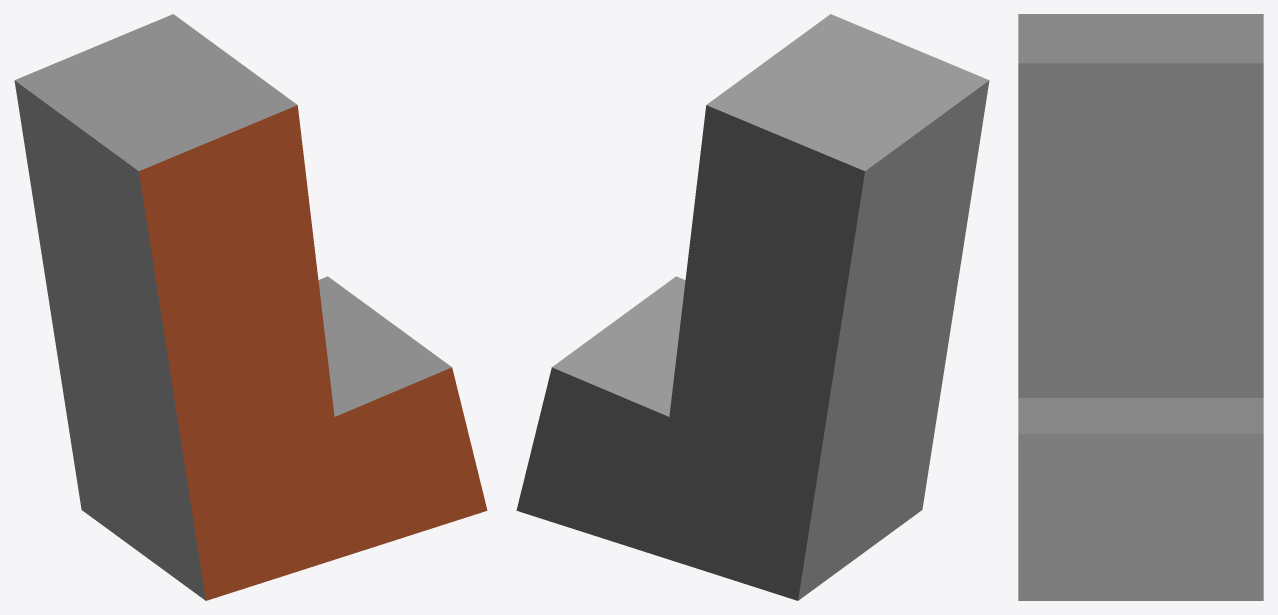
The model's file is construction_2995_assumed_A_Casa_h6m.obj.
The picture shows the model from 3 angles, left to right: view 1: azimuth 30°, elevation 25°; view 2: azimuth 150°, elevation 25°; view 3: azimuth 270°, elevation 25°; orthographic projection.
Parts seen in each view (by area): view 1: construction_2995_assumed_A_Casa; view 2: construction_2995_assumed_A_Casa; view 3: construction_2995_assumed_A_Casa.
Part boxes in pixels (<box>): construction_2995_assumed_A_Casa: <box>14,14,487,600</box>; construction_2995_assumed_A_Casa: <box>516,14,989,600</box>; construction_2995_assumed_A_Casa: <box>1018,14,1263,600</box>.
Size of the model in its own units: 9.71 by 12.6 by 6.
